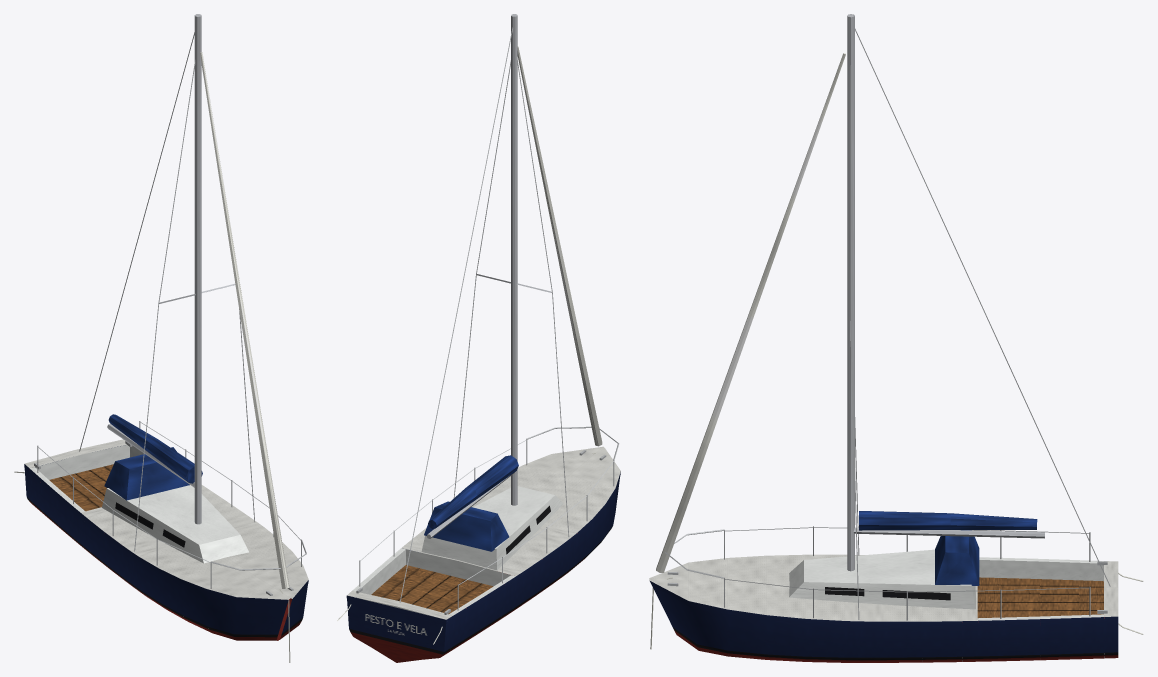
File: SM_Morin_Barca_Vela9_Blu.fbx
3 renders of one model, left to right at view 1: azimuth 30°, elevation 25°; view 2: azimuth 150°, elevation 25°; view 3: azimuth 270°, elevation 25°, orthographic. The views are drawn at different scales.
Visible parts, largest first — view 1: SM_Morin_Barca_Vela9_Blu; view 2: SM_Morin_Barca_Vela9_Blu; view 3: SM_Morin_Barca_Vela9_Blu.
Boxes of the visible parts, left/top/right/bottom form: SM_Morin_Barca_Vela9_Blu: left=14, top=14, right=308, bottom=662; SM_Morin_Barca_Vela9_Blu: left=337, top=14, right=620, bottom=662; SM_Morin_Barca_Vela9_Blu: left=649, top=14, right=1143, bottom=662.
Bounding box in the file's own units: 300 × 943 × 1340.
Materials: 1 (1 with a texture image).
